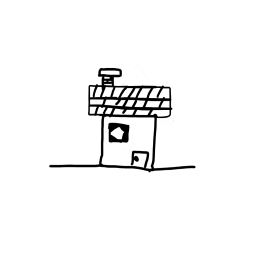chimney: (91, 63, 127, 94)
door: (125, 147, 152, 176)
open_window: (105, 117, 134, 147)
roof: (83, 81, 180, 120)
small_house: (1, 1, 260, 260)
wall: (91, 110, 168, 176)
